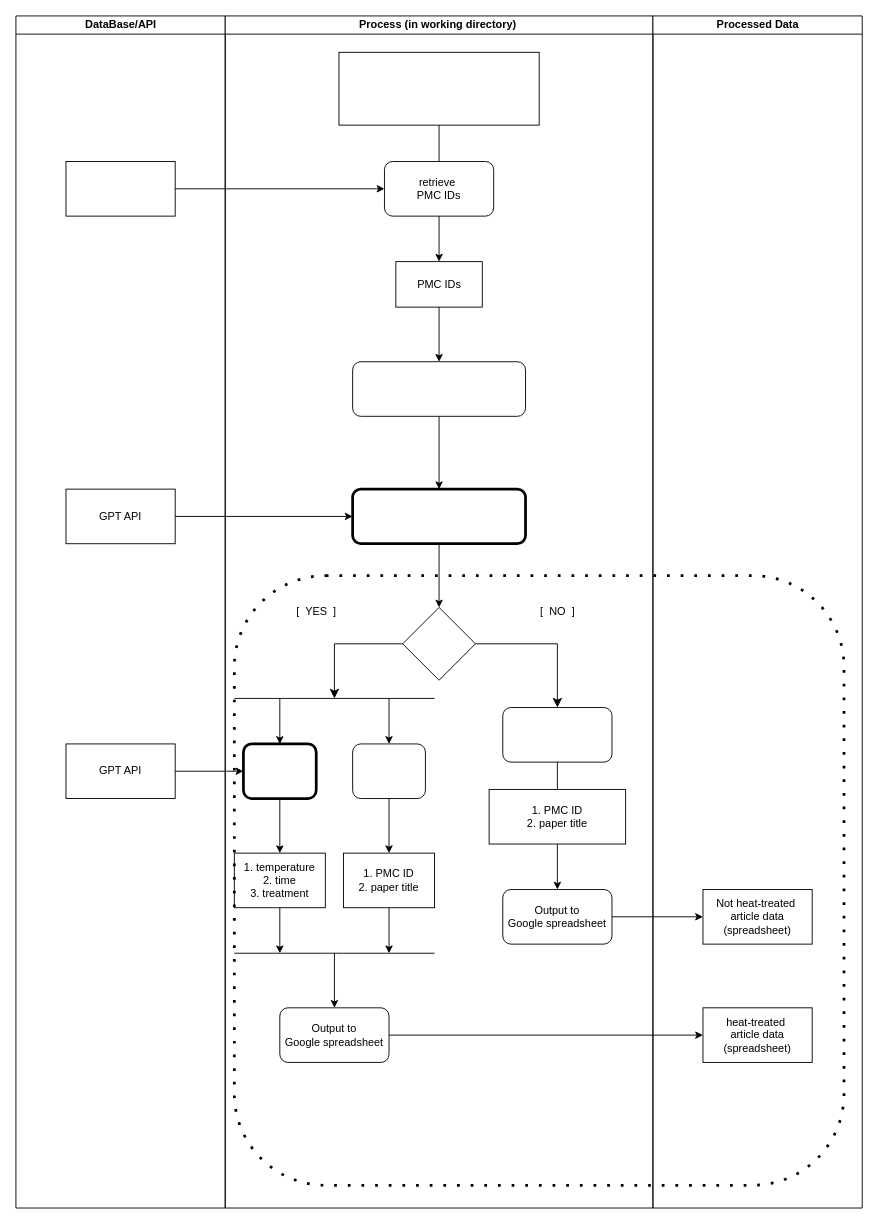
The diagram is 878 pixels wide and 1224 high, and some of its shapes have lost their labels. Here are the shapes that lost their labels. From the top down, the centre of each, then its label:
pixel 438 88: Query (patameter) ｢"heat stress" OR "heat shock" OR "high-temperature stress"｣
pixel 120 188: E-utils ( PubMed API )
pixel 439 388: Process ID GET "Materials & methods"
pixel 438 516: Determine if exposed to heat (to sample)
pixel 557 734: Get PMC ID, paper title
pixel 279 770: word retrieval
pixel 388 771: Get PMC ID. paper title
